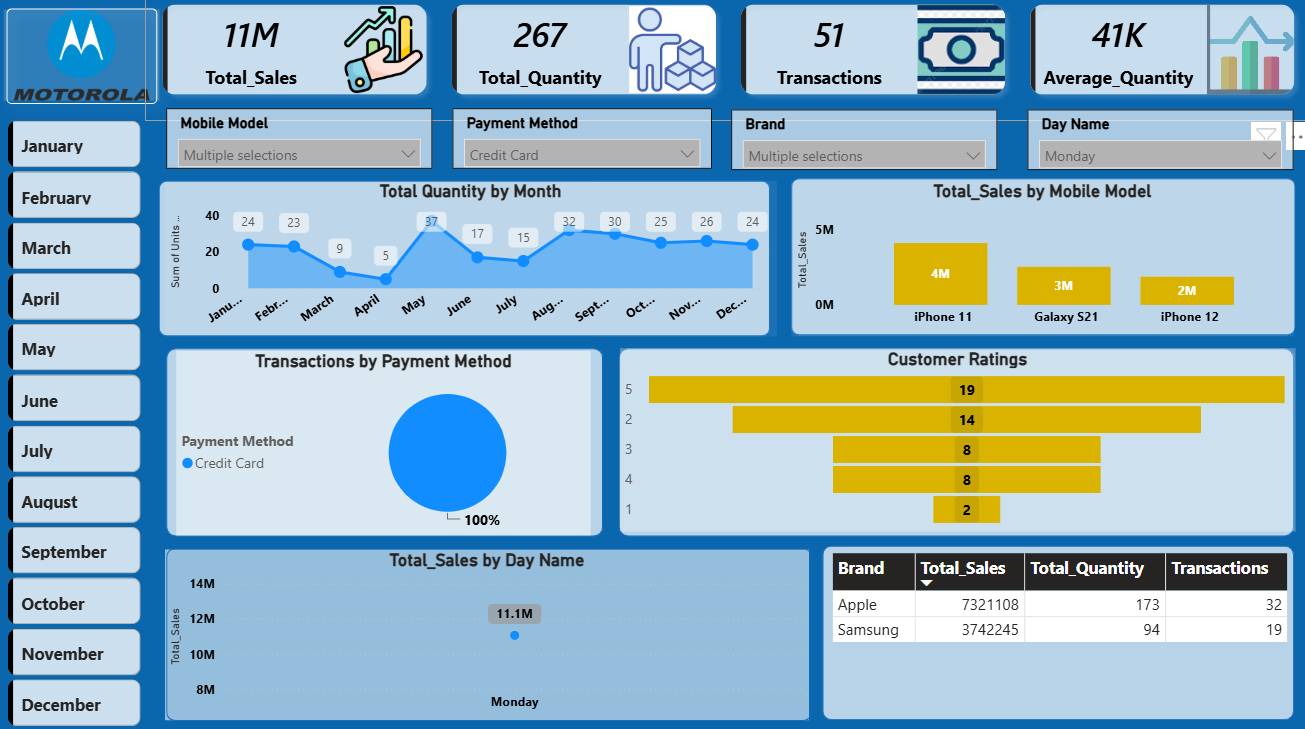

What the dashboard file says about the page in this screenshot:
{"tool":"powerbi","page":{"name":"Page 1","canvas":[1280,720],"ordinal":0},"visuals":[{"type":"image","box":[13,17.3,150,88],"z":0},{"type":"shape","box":[0,0,177.5,124.1],"z":1000},{"type":"advancedSlicerVisual","fields":{"Values":["Sheet1.Date.Variation.Date Hierarchy.Month"]},"box":[13,124.1,137.1,595.9],"z":2000},{"type":"cardVisual","fields":{"Data":["Sales_Data.Total_Sales","Sales_Data.Total_Quantity","Sales_Data.Transactions","Sales_Data.Average_Quantity"]},"box":[150,0,1129.7,124.1],"z":3000},{"type":"shape","box":[163.3,181.7,590,150],"z":4000},{"type":"lineChart","title":"Total Quantity by Month","fields":{"Y":["Sum(Sales_Data.Units Sold)"],"Category":["Sales_Data.Date.Variation.Date Hierarchy.Month","Sales_Data.Date.Variation.Date Hierarchy.Day"]},"box":[168.3,181.7,590,150],"z":5000},{"type":"shape","box":[773.3,180,486.7,151.7],"z":6000},{"type":"clusteredColumnChart","fields":{"Y":["Sales_Data.Total_Sales"],"Category":["Sales_Data.Mobile Model"]},"box":[773.3,181.7,485,150],"z":7000},{"type":"shape","box":[170,343.3,421.7,181.7],"z":8000},{"type":"pieChart","fields":{"Category":["Sales_Data.Payment Method"],"Y":["Sales_Data.Transactions"]},"box":[180,346.7,400,178.3],"z":9000},{"type":"shape","box":[606.7,343.3,651.7,181.7],"z":10000},{"type":"funnel","title":"Customer Ratings","fields":{"Category":["Sales_Data.Customer Ratings"],"Y":["CountNonNull(Sales_Data.Customer Ratings)"]},"box":[608.3,343.3,651.7,176.7],"z":11000},{"type":"areaChart","fields":{"Category":["Sales_Data.Day Name"],"Y":["Sales_Data.Total_Sales"]},"box":[168.3,538.3,621.7,165],"z":12000},{"type":"shape","box":[170,536.7,623.3,166.7],"z":13000},{"type":"shape","box":[803.3,535,455,168.3],"z":14000},{"type":"tableEx","fields":{"Values":["Sales_Data.Brand","Sales_Data.Total_Sales","Sales_Data.Total_Quantity","Sales_Data.Transactions"]},"box":[806.7,536.7,451.7,166.7],"z":15000},{"type":"slicer","fields":{"Values":["Sales_Data.Mobile Model"]},"box":[170,111.7,256.7,58.3],"z":16000},{"type":"slicer","fields":{"Values":["Sales_Data.Payment Method"]},"box":[446.7,111.7,250,58.3],"z":17000},{"type":"slicer","fields":{"Values":["Sales_Data.Brand"]},"box":[715,113.3,256.7,58.3],"z":18000},{"type":"slicer","fields":{"Values":["Sales_Data.Day Name"]},"box":[1001.7,113.3,256.7,58.3],"z":19000}]}

Visuals, with their boxes in screenshot pixels (x1, y1, x2, y2), scaled from the page's 1280x720 canvas onto the 1305x729 screenshot:
image: <bbox>13, 18, 166, 107</bbox>
shape: <bbox>0, 0, 181, 126</bbox>
advancedSlicerVisual - Sheet1.Date.Variation.Date Hierarchy.Month: <bbox>13, 126, 153, 728</bbox>
cardVisual - Sales_Data.Total_Sales x Sales_Data.Total_Quantity: <bbox>153, 0, 1304, 126</bbox>
shape: <bbox>166, 184, 768, 336</bbox>
"Total Quantity by Month" lineChart: <bbox>172, 184, 773, 336</bbox>
shape: <bbox>788, 182, 1285, 336</bbox>
clusteredColumnChart - Sales_Data.Total_Sales x Sales_Data.Mobile Model: <bbox>788, 184, 1283, 336</bbox>
shape: <bbox>173, 348, 603, 532</bbox>
pieChart - Sales_Data.Payment Method x Sales_Data.Transactions: <bbox>184, 351, 591, 532</bbox>
shape: <bbox>619, 348, 1283, 532</bbox>
"Customer Ratings" funnel: <bbox>620, 348, 1285, 526</bbox>
areaChart - Sales_Data.Day Name x Sales_Data.Total_Sales: <bbox>172, 545, 805, 712</bbox>
shape: <bbox>173, 543, 809, 712</bbox>
shape: <bbox>819, 542, 1283, 712</bbox>
tableEx - Sales_Data.Brand x Sales_Data.Total_Sales: <bbox>822, 543, 1283, 712</bbox>
slicer - Sales_Data.Mobile Model: <bbox>173, 113, 435, 172</bbox>
slicer - Sales_Data.Payment Method: <bbox>455, 113, 710, 172</bbox>
slicer - Sales_Data.Brand: <bbox>729, 115, 991, 174</bbox>
slicer - Sales_Data.Day Name: <bbox>1021, 115, 1283, 174</bbox>
